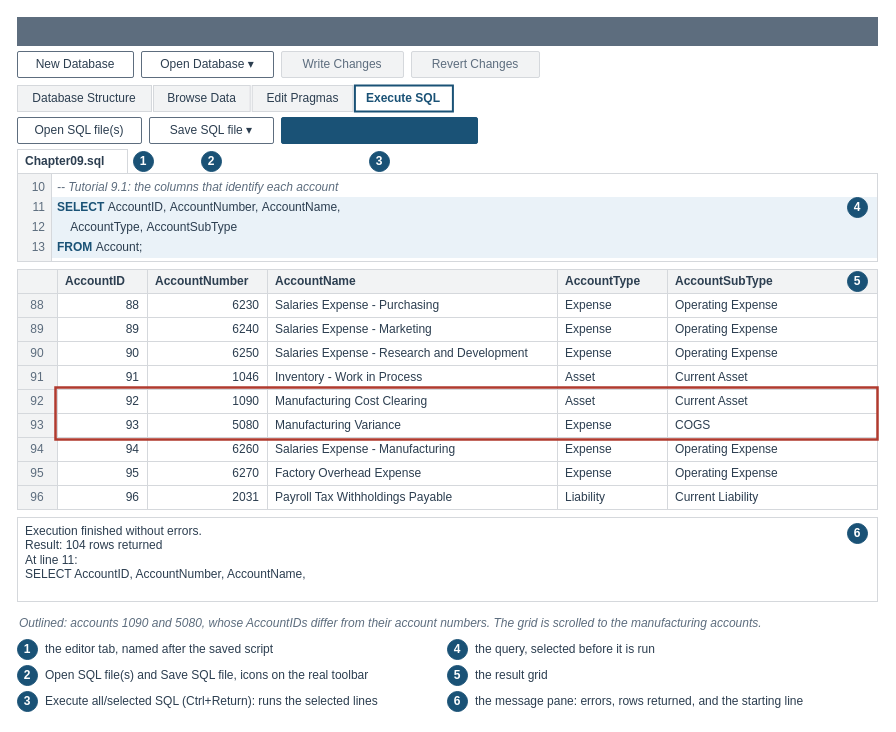
This 896x732 diagram has some shape labels left out. The shapes that lost their labels are listed below. From the top down, each one's centre as x and y in pixels, then its label:
At [447,31]: "DB Browser for SQLite - C:\Users\you\Documents\CharlesRiver_Work.sqlite".
At [379,130]: "▶ Execute all/selected SQL".
